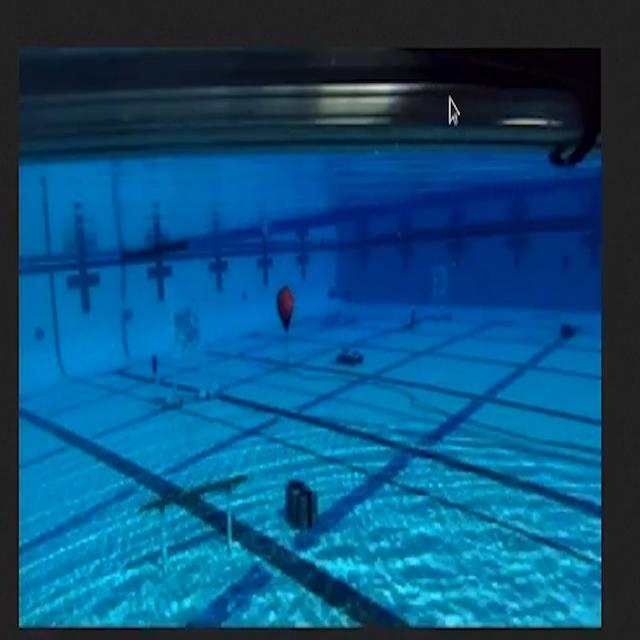Buoy: (264, 276, 310, 348)
Path: (121, 459, 266, 567)
